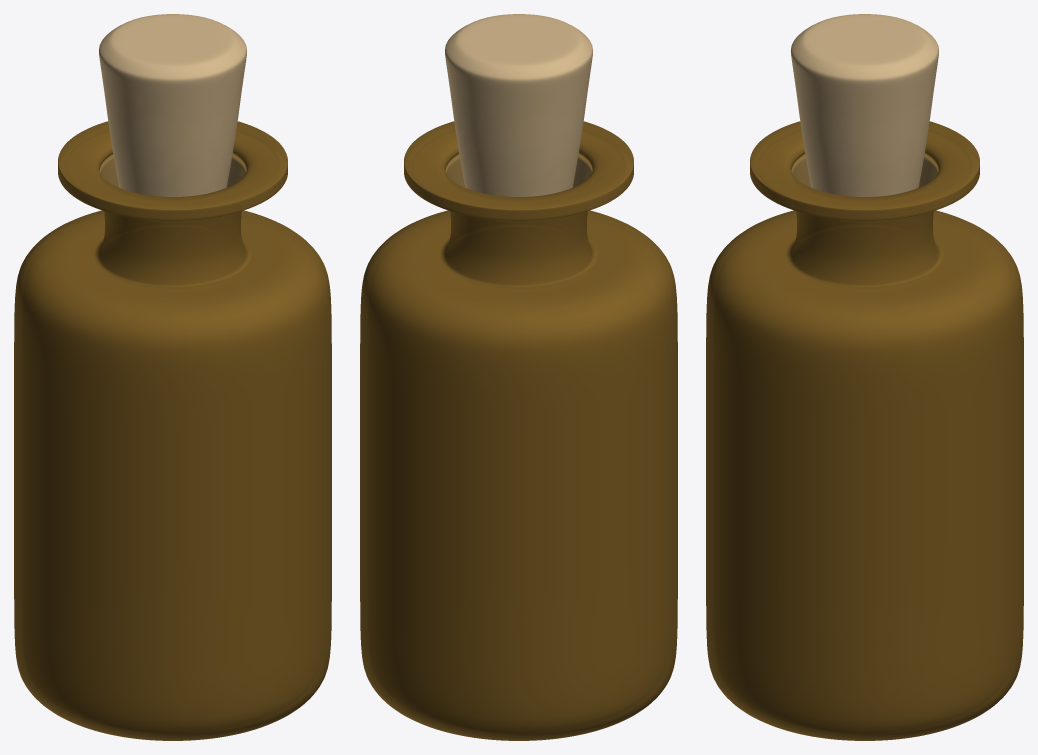
The model's file is lone.glb.
3 renders of one model, left to right at view 1: azimuth 30°, elevation 25°; view 2: azimuth 150°, elevation 25°; view 3: azimuth 270°, elevation 25°, orthographic.
Parts seen in each view (by area): view 1: glass, cap; view 2: glass, cap; view 3: glass, cap.
Part boxes in pixels (bbox=[...]): glass: bbox=[14, 121, 331, 740]; cap: bbox=[99, 14, 246, 196]; glass: bbox=[360, 121, 677, 740]; cap: bbox=[445, 14, 592, 196]; glass: bbox=[706, 121, 1023, 740]; cap: bbox=[790, 14, 939, 196].
Size of the model in its own units: 0.5765 by 1.3 by 0.5765.
